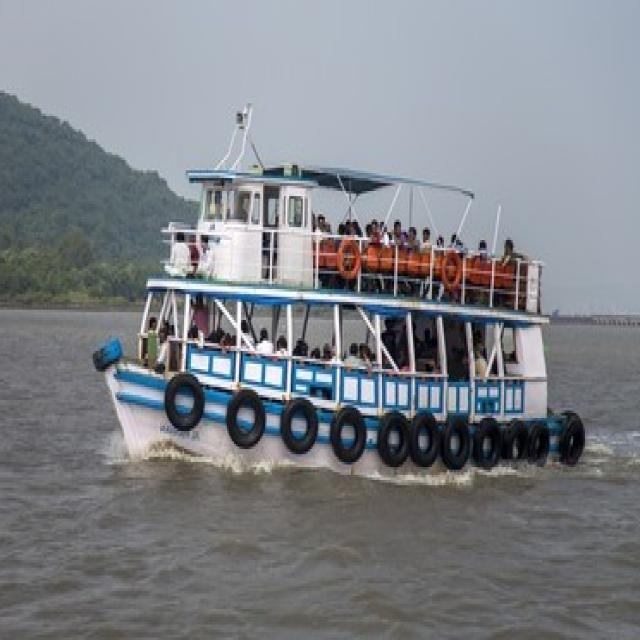houseboat: (97, 116, 592, 495)
